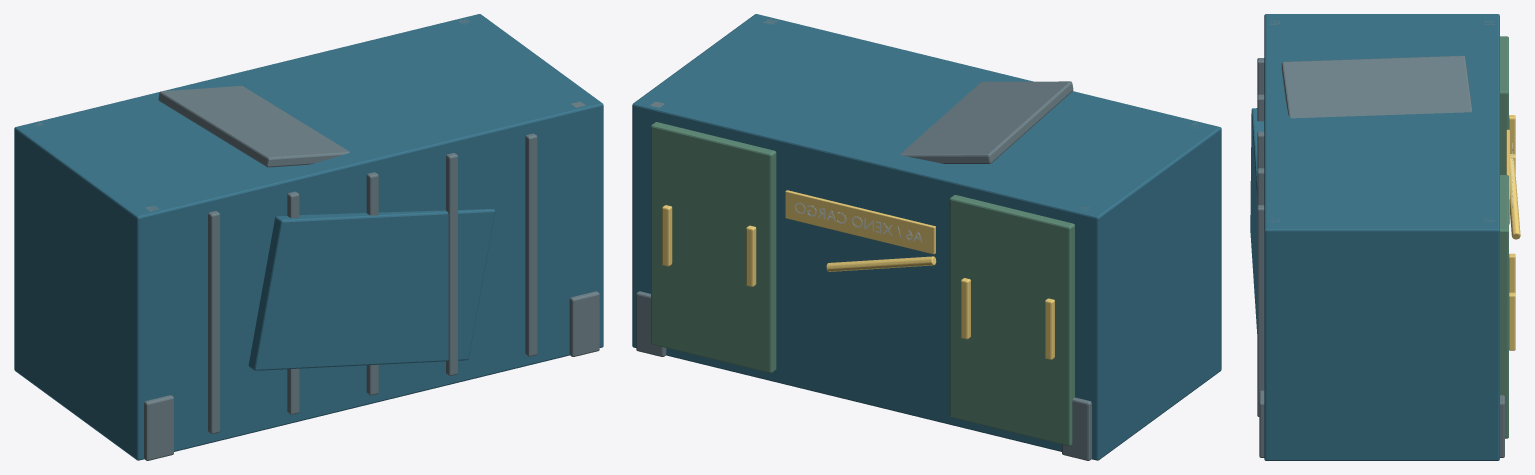
File: armored_container_d2.glb
3 views of the same model, side by side, from view 1: azimuth 30°, elevation 25°; view 2: azimuth 150°, elevation 25°; view 3: azimuth 270°, elevation 25° (orthographic). The views are drawn at different scales.
Visible parts, largest first — view 1: Container body.005, Caved side.001, Torn roof.001, Corrugated side rib.029, Corrugated side rib.025, Corrugated side rib.028, ISO corner casting.022, ISO corner casting.020, Corrugated side rib.027, Corrugated side rib.026; view 2: Container body.005, Container door.011, Container door.010, Torn roof.001, Container ID.005, ISO corner casting.021, ISO corner casting.023, Torn ID rail.001, Door latch.023, Door latch.022, Container stencil.005, Door latch.020 (+1 smaller); view 3: Container body.005, Torn roof.001, Container door.011, Corrugated side rib.029, Caved side.001, Container door.010, Torn ID rail.001, Door latch.023, ISO corner casting.022, ISO corner casting.023, Corrugated side rib.027, Corrugated side rib.025 (+1 smaller).
Part boxes in pixels (<box>): Container body.005: <box>14,14,603,460</box>; Caved side.001: <box>248,209,495,370</box>; Torn roof.001: <box>158,86,349,167</box>; Corrugated side rib.029: <box>525,133,537,356</box>; Corrugated side rib.025: <box>208,211,219,434</box>; Corrugated side rib.028: <box>446,153,457,375</box>; ISO corner casting.022: <box>569,291,599,356</box>; ISO corner casting.020: <box>144,395,173,460</box>; Corrugated side rib.027: <box>366,172,378,395</box>; Corrugated side rib.026: <box>287,191,299,414</box>; Container body.005: <box>632,14,1221,460</box>; Container door.011: <box>651,122,776,373</box>; Container door.010: <box>949,195,1074,446</box>; Torn roof.001: <box>900,81,1073,163</box>; Container ID.005: <box>785,190,935,254</box>; ISO corner casting.021: <box>1062,397,1091,460</box>; ISO corner casting.023: <box>636,291,666,356</box>; Torn ID rail.001: <box>826,256,936,271</box>; Door latch.023: <box>662,205,672,266</box>; Door latch.022: <box>746,225,756,286</box>; Container stencil.005: <box>794,202,922,243</box>; Door latch.020: <box>1045,298,1054,359</box>; Container body.005: <box>1264,14,1499,460</box>; Torn roof.001: <box>1281,55,1471,118</box>; Container door.011: <box>1500,175,1508,438</box>; Corrugated side rib.029: <box>1257,205,1264,416</box>; Caved side.001: <box>1250,108,1264,333</box>; Container door.010: <box>1500,36,1508,174</box>; Torn ID rail.001: <box>1506,158,1520,239</box>; Door latch.023: <box>1509,292,1515,350</box>; ISO corner casting.022: <box>1259,390,1264,457</box>; ISO corner casting.023: <box>1500,395,1504,457</box>; Corrugated side rib.027: <box>1257,131,1264,168</box>; Corrugated side rib.025: <box>1257,58,1264,95</box>.
Bounding box in the file's own units: 5 × 2.68 × 2.64.
